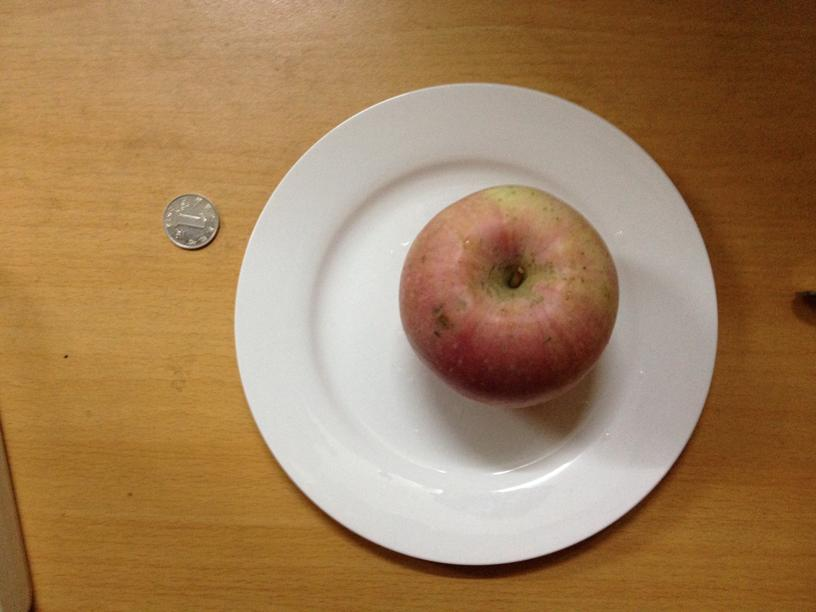apple: (400, 180, 621, 406)
coin: (162, 193, 222, 250)
